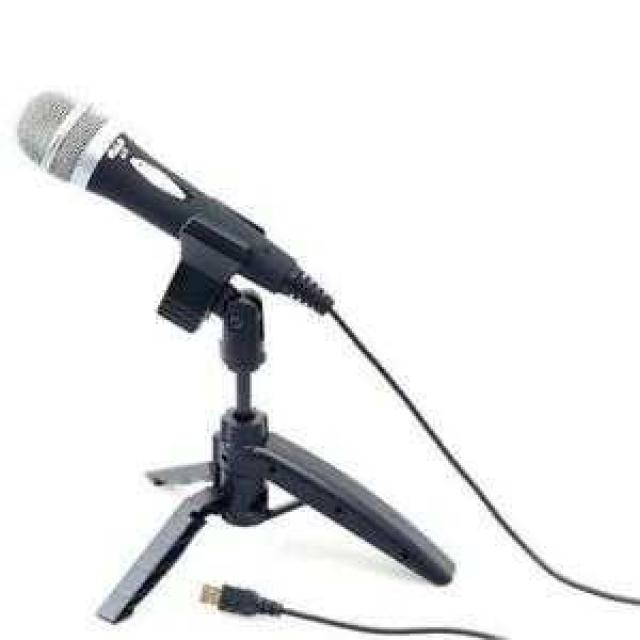microphone: (14, 92, 308, 320)
